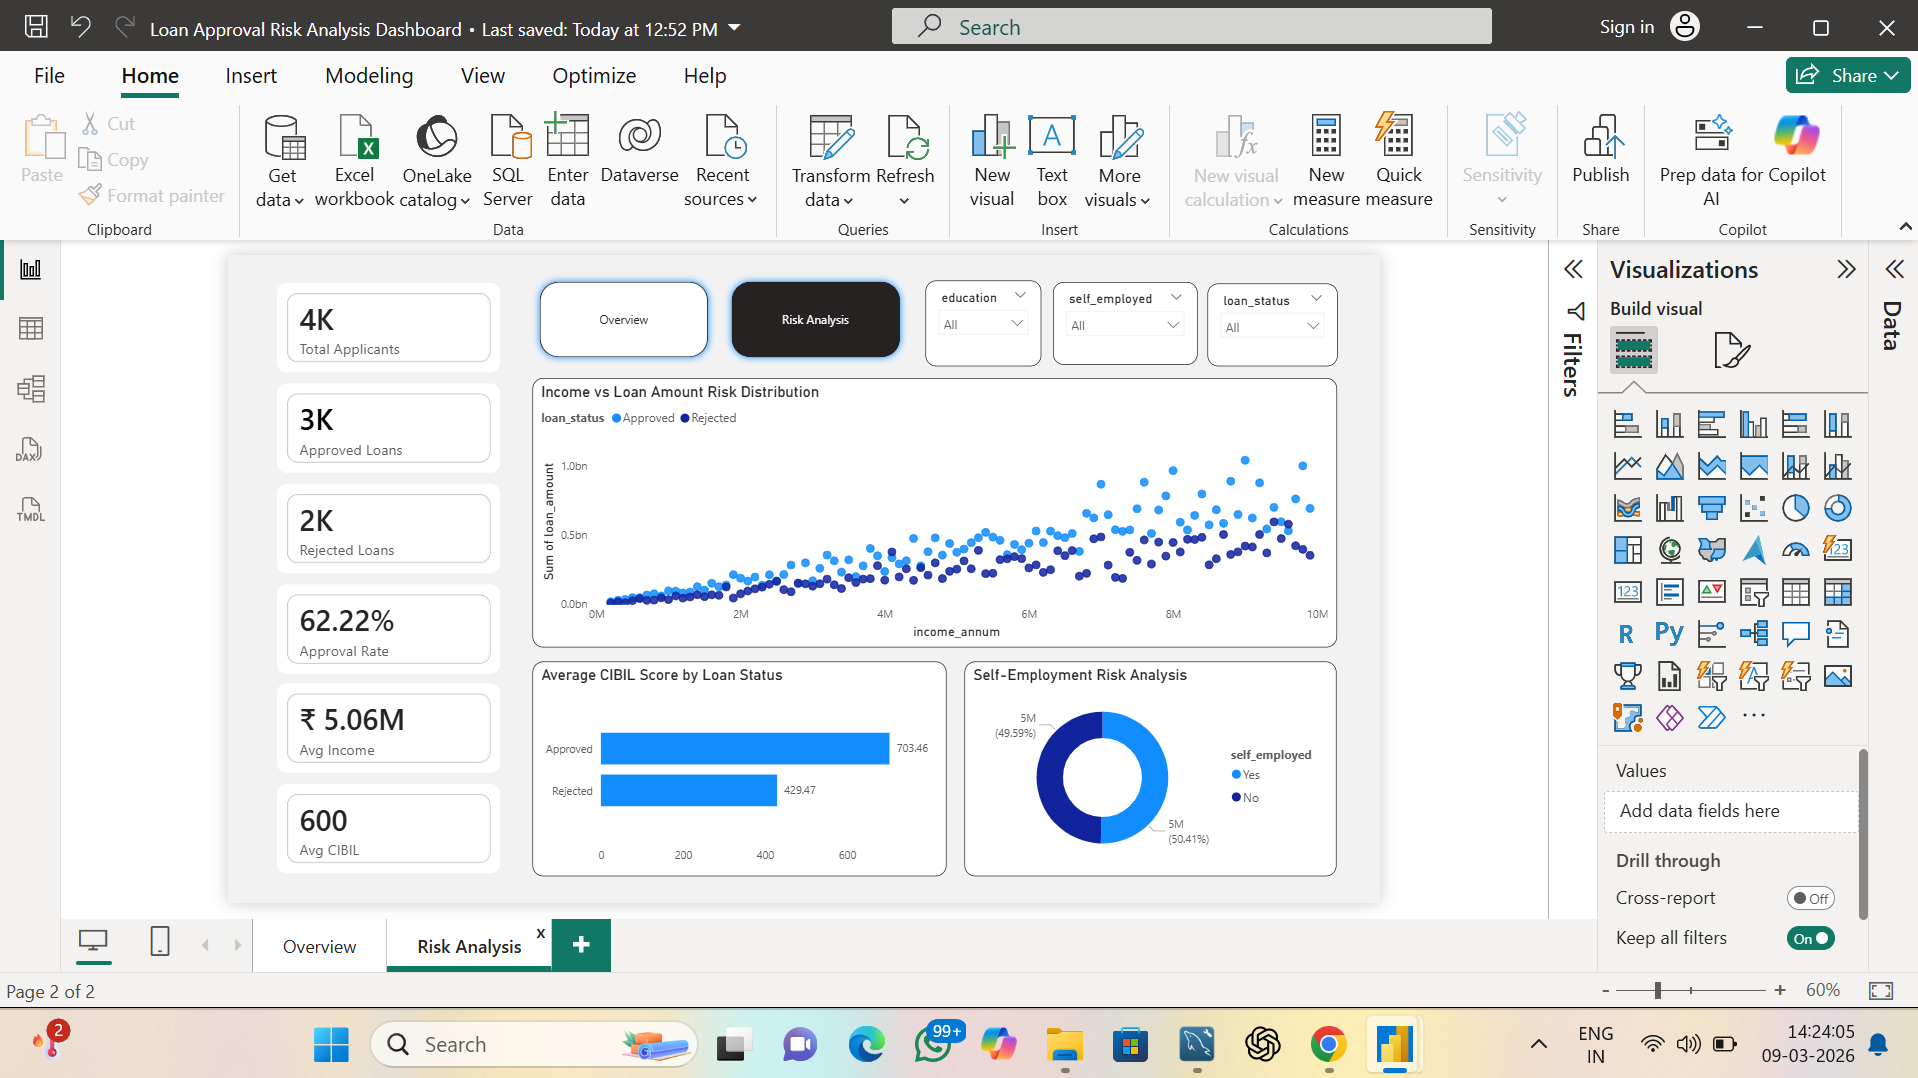

Layout of this report page (visuals, bound fields, positions):
{"tool":"powerbi","page":{"name":"Risk Analysis","canvas":[1280,720],"ordinal":1},"visuals":[{"type":"cardVisual","fields":{"Data":["loan_data.Total Applicants"]},"box":[47.7,25.4,260.9,111.3],"z":0},{"type":"cardVisual","fields":{"Data":["loan_data.Approved Loans"]},"box":[47.7,136.8,260.9,111.3],"z":1000},{"type":"cardVisual","fields":{"Data":["loan_data.Rejected Loans"]},"box":[47.7,248.1,260.9,111.3],"z":2000},{"type":"cardVisual","fields":{"Data":["loan_data.Approval Rate"]},"box":[47.7,359.5,260.9,111.3],"z":3000},{"type":"cardVisual","fields":{"Data":["loan_data.Avg Income"]},"box":[47.7,470.8,260.9,111.3],"z":4000},{"type":"cardVisual","fields":{"Data":["loan_data.Avg CIBIL"]},"box":[47.7,582.2,260.9,111.3],"z":5000},{"type":"slicer","title":"Loan Approval Distribution","fields":{"Values":["loan_data.education"]},"box":[774.6,28.6,128.8,95.4],"z":6000},{"type":"slicer","fields":{"Values":["loan_data.self_employed"]},"box":[916.2,30.2,160.7,92.3],"z":7000},{"type":"slicer","fields":{"Values":["loan_data.loan_status"]},"box":[1088,31.8,144.7,92.3],"z":8000},{"type":"pageNavigator","box":[338.8,22.3,416.7,100.2],"z":9000},{"type":"scatterChart","title":"Income vs Loan Amount Risk Distribution","fields":{"X":["loan_data. income_annum"],"Y":["Sum(loan_data. loan_amount)"],"Series":["loan_data.loan_status"]},"box":[338.8,136.8,893.9,299],"z":10000},{"type":"clusteredBarChart","title":"Average CIBIL Score by Loan Status","fields":{"Category":["loan_data.loan_status"],"Y":["Avg(loan_data.cibil_score)"]},"box":[338.8,451.7,459.7,238.6],"z":11000},{"type":"donutChart","title":"Self-Employment Risk Analysis","fields":{"Category":["loan_data.self_employed"],"Y":["Sum(loan_data.loan_id)"]},"box":[819.2,451.7,413.6,238.6],"z":12000}]}

Visuals, with their boxes on the page's 1280x720 design canvas (x1, y1, x2, y2). These are canvas units, not pixel positions in the 1918x1078 screenshot, which may show the page scaled, cropped or inside an application window:
cardVisual - loan_data.Total Applicants: bbox(48, 25, 309, 137)
cardVisual - loan_data.Approved Loans: bbox(48, 137, 309, 248)
cardVisual - loan_data.Rejected Loans: bbox(48, 248, 309, 359)
cardVisual - loan_data.Approval Rate: bbox(48, 360, 309, 471)
cardVisual - loan_data.Avg Income: bbox(48, 471, 309, 582)
cardVisual - loan_data.Avg CIBIL: bbox(48, 582, 309, 694)
"Loan Approval Distribution" slicer: bbox(775, 29, 903, 124)
slicer - loan_data.self_employed: bbox(916, 30, 1077, 122)
slicer - loan_data.loan_status: bbox(1088, 32, 1233, 124)
pageNavigator: bbox(339, 22, 756, 122)
"Income vs Loan Amount Risk Distribution" scatterChart: bbox(339, 137, 1233, 436)
"Average CIBIL Score by Loan Status" clusteredBarChart: bbox(339, 452, 798, 690)
"Self-Employment Risk Analysis" donutChart: bbox(819, 452, 1233, 690)
